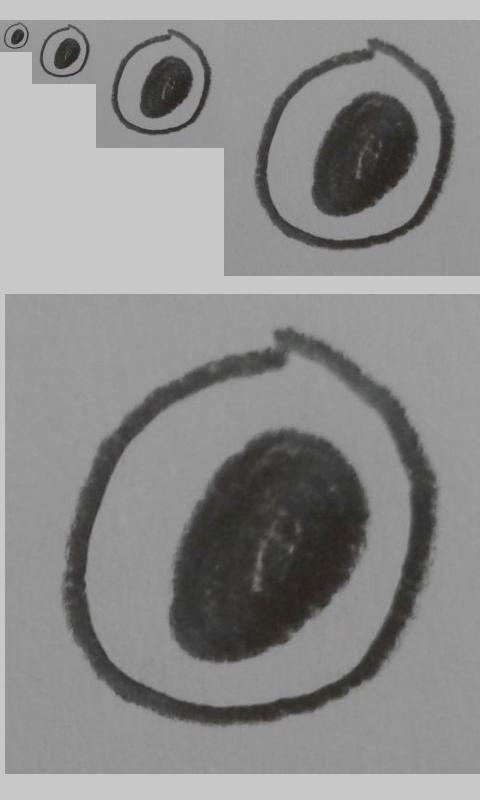radio_button: (59, 328, 438, 728), (251, 35, 457, 251), (111, 29, 211, 135), (39, 24, 91, 78), (3, 22, 29, 49)
